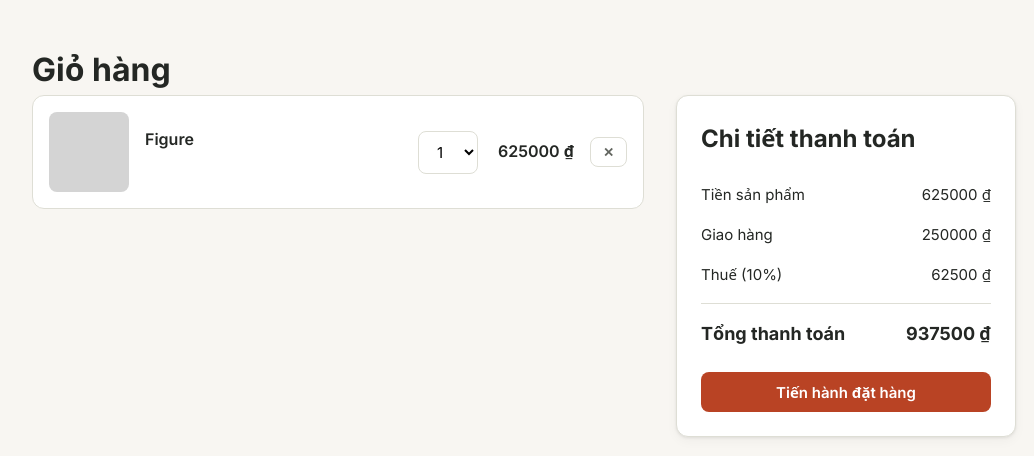
Test: cart proceeds to shipping without a login redirect
Click the button "Tiến hành đặt hàng": (846, 392) x1=701 y1=372 x2=991 y2=412
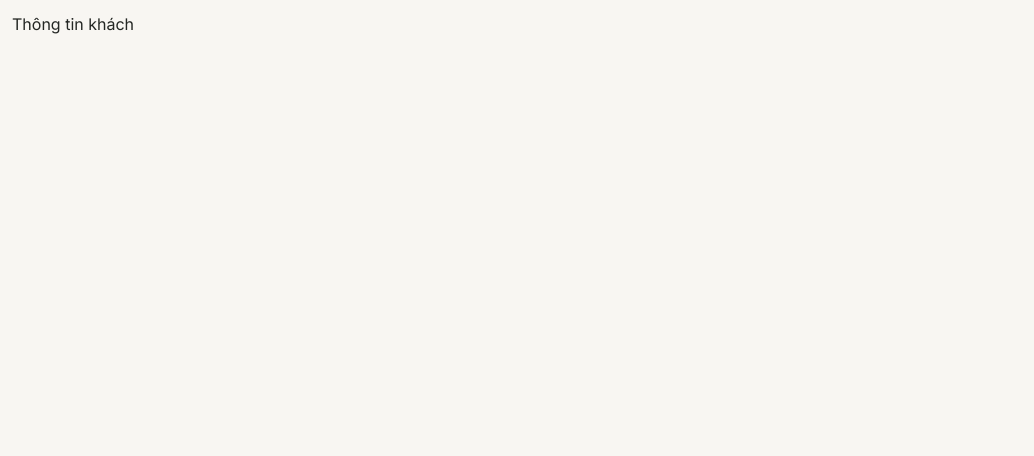
Expected: the text "Thông tin khách" is shown, x1=12 y1=14 x2=134 y2=34
